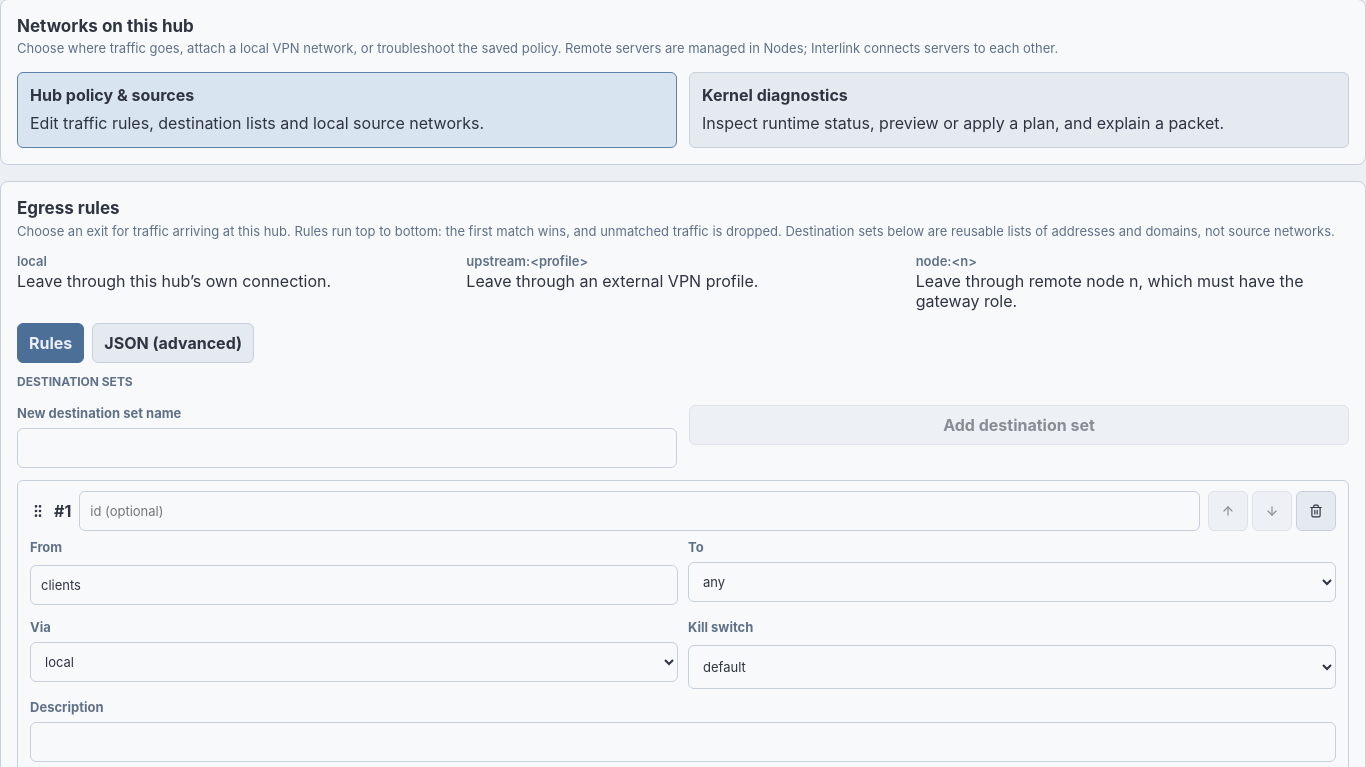
Test case: Networks hub tasks › keeps a diagnostics failure separate from the hub editor
Step 1. Click the button "Kernel diagnostics" → (1019, 110), box 689,72 -> 1349,148
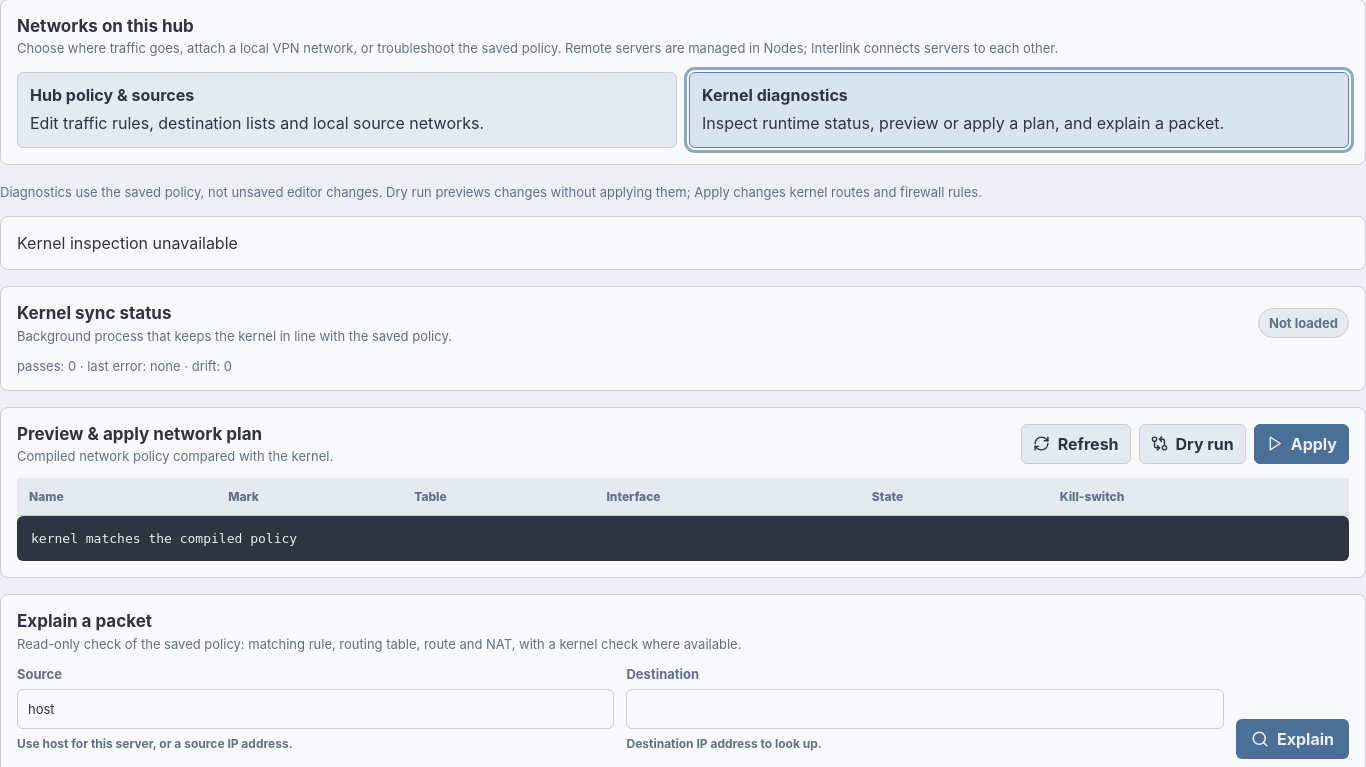
Expected: the message reads "Kernel inspection unavailable", 17,233 -> 238,253
Step 2. Click the button "Hub policy & sources" → (347, 110), box 17,72 -> 677,148
(page scrolled)
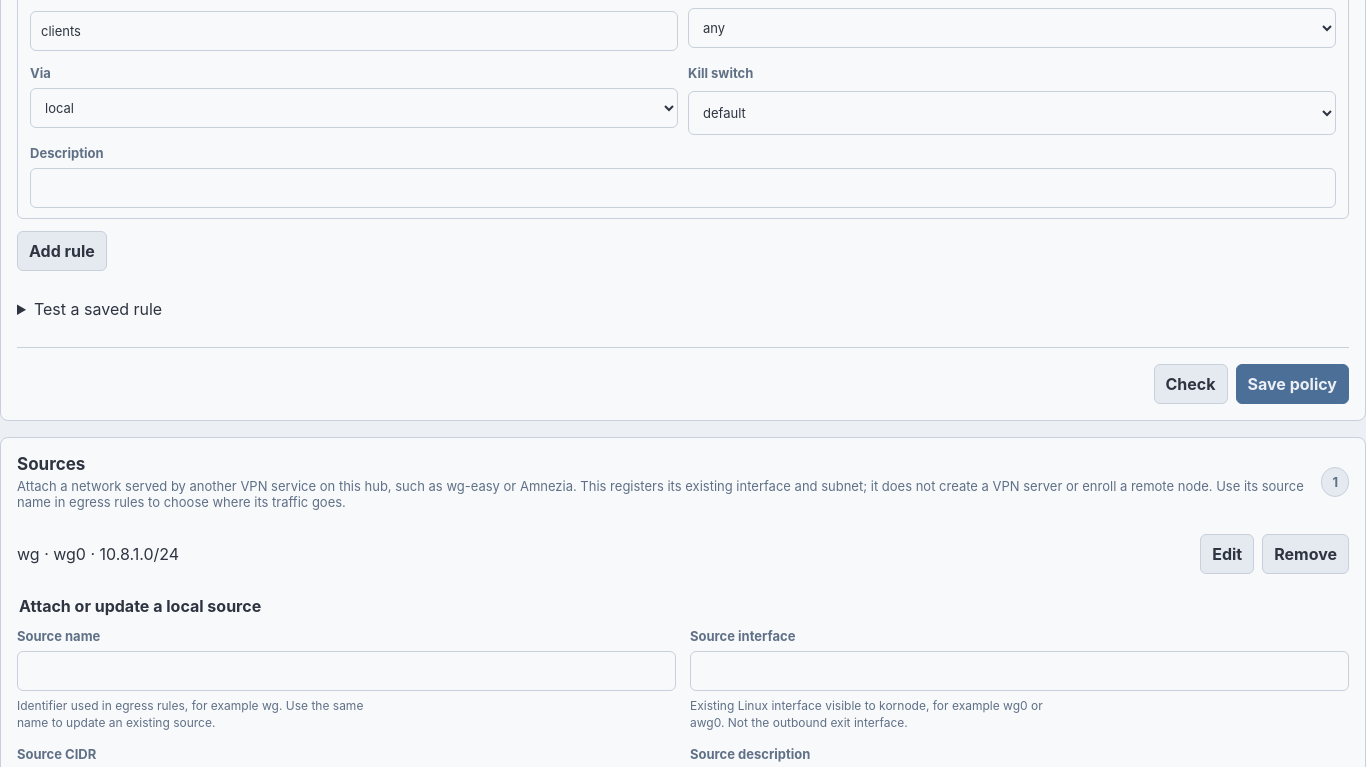
Expected: the message "Kernel inspection unavailable" is gone
Expected: the button "Save policy" is shown, 1236,364 -> 1349,404
